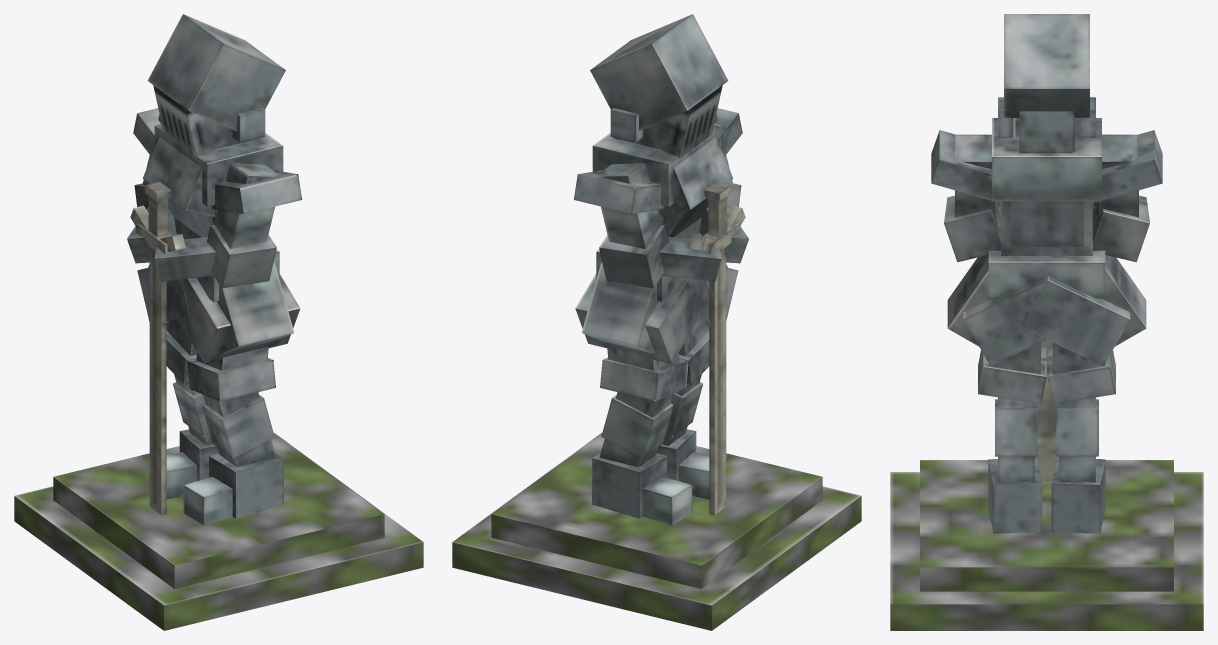
The model's file is SkinHero2.fbx.
3 views of the same model, side by side, from view 1: azimuth 30°, elevation 25°; view 2: azimuth 150°, elevation 25°; view 3: azimuth 270°, elevation 25° (orthographic). The views are drawn at different scales.
Visible parts, largest first — view 1: Skin.001; view 2: Skin.001; view 3: Skin.001.
Part boxes in pixels (x1,y1,x2,y2): Skin.001: [14, 14, 423, 630]; Skin.001: [452, 14, 861, 630]; Skin.001: [890, 14, 1203, 630].
Bounding box in the file's own units: 22.98 × 43.92 × 22.98.
